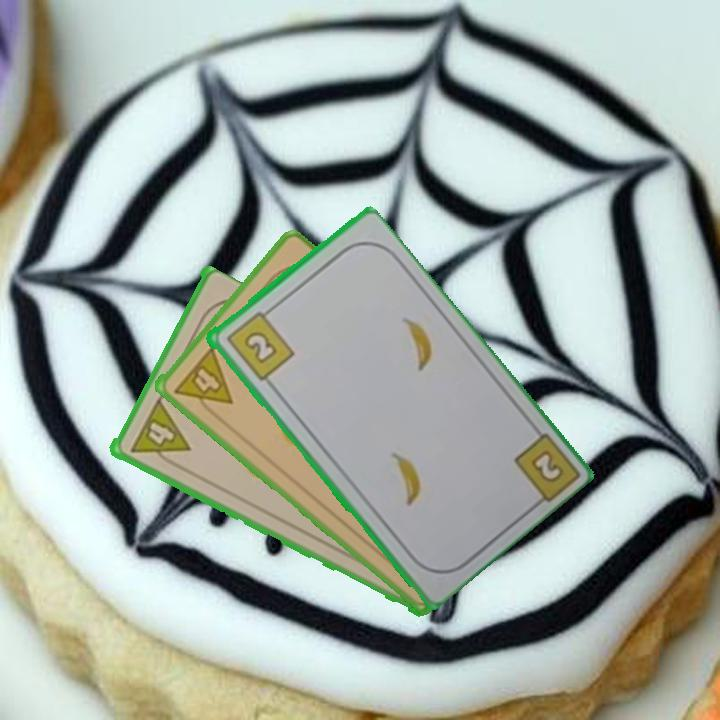2b: (222, 304, 297, 384), (526, 446, 566, 486)
4p: (170, 342, 235, 422), (126, 396, 192, 472)
